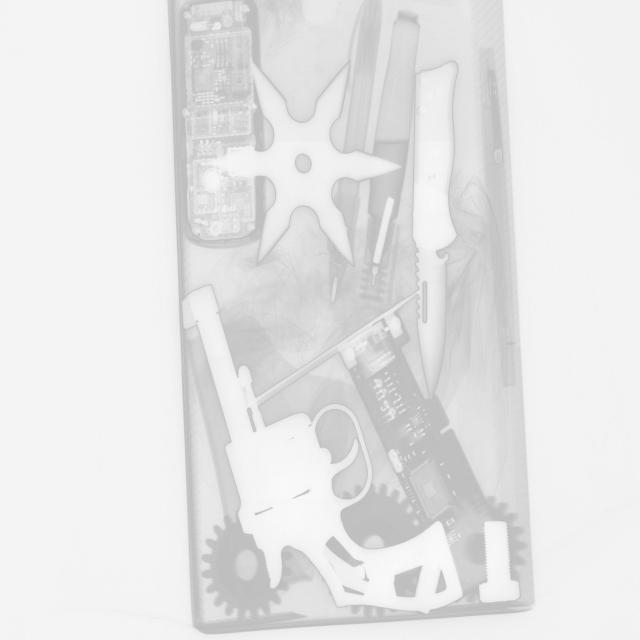knife: (409, 60, 460, 397)
pistol: (182, 284, 461, 613)
